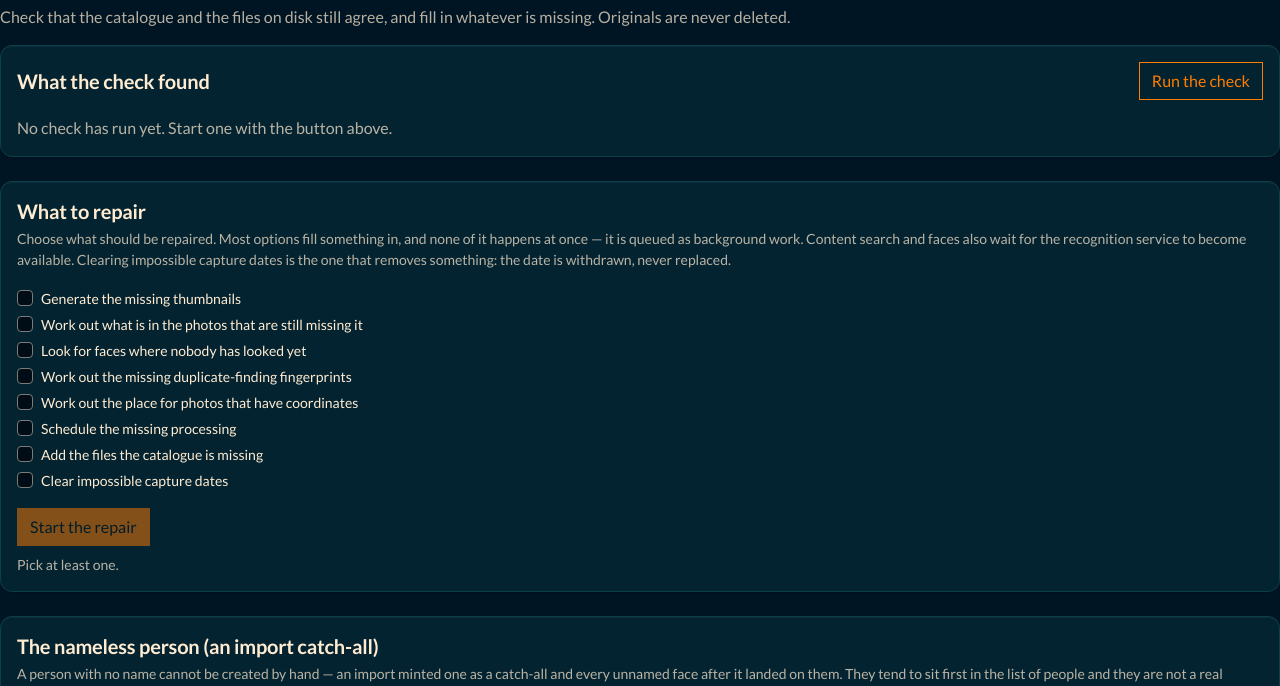
Test case: MaintenancePage › renders the per-project breakdown and the two findings no project owns
Click the button "Run the check": {"x": 1201, "y": 81} x1=1139 y1=62 x2=1263 y2=100
(page scrolled)
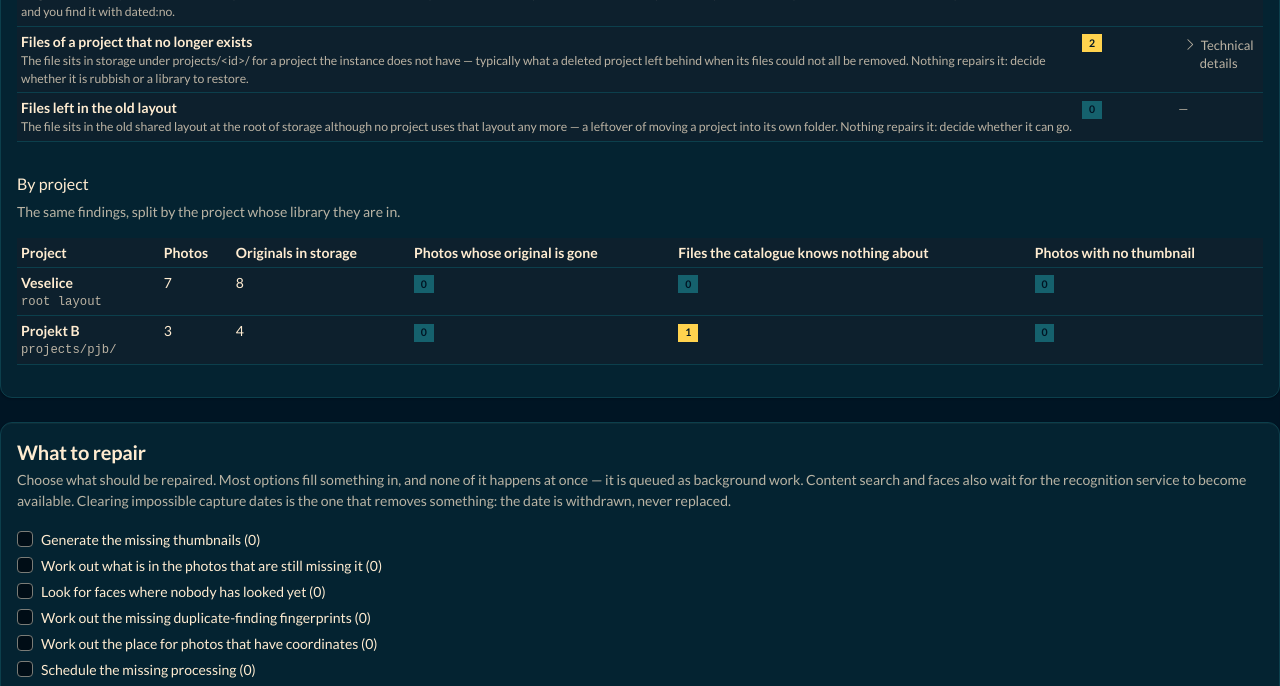
Check: the text "Files of a project that no longer exists" is shown, box x1=21 y1=33 x2=252 y2=50
Check: the text "Files left in the old layout" is shown, box x1=21 y1=99 x2=177 y2=116
Check: the text "Veselice" is shown, box x1=21 y1=274 x2=73 y2=291
